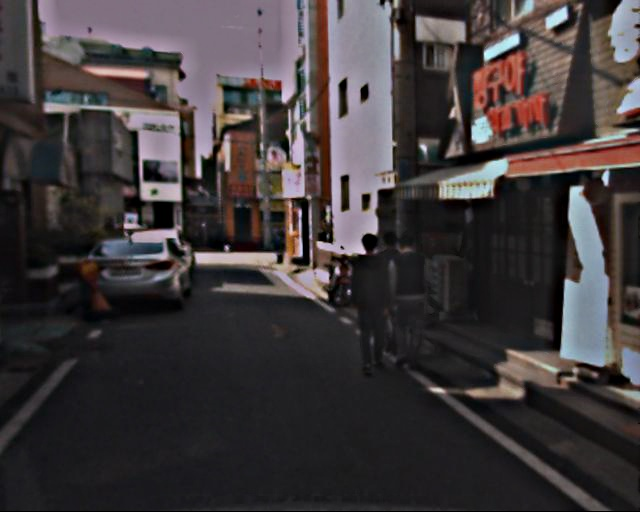person: (343, 233, 400, 371), (381, 234, 436, 368), (366, 230, 415, 350)
